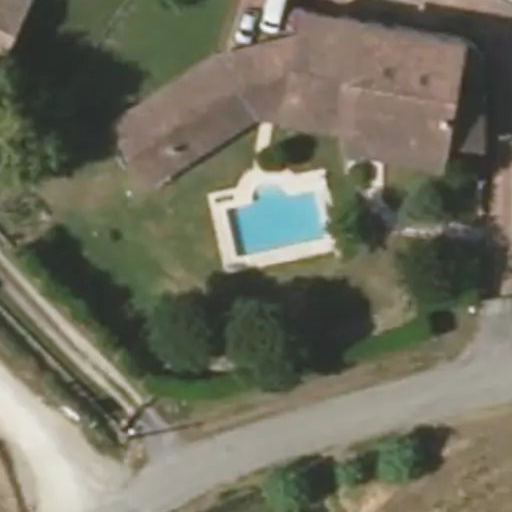pool: (202, 214, 306, 260)
